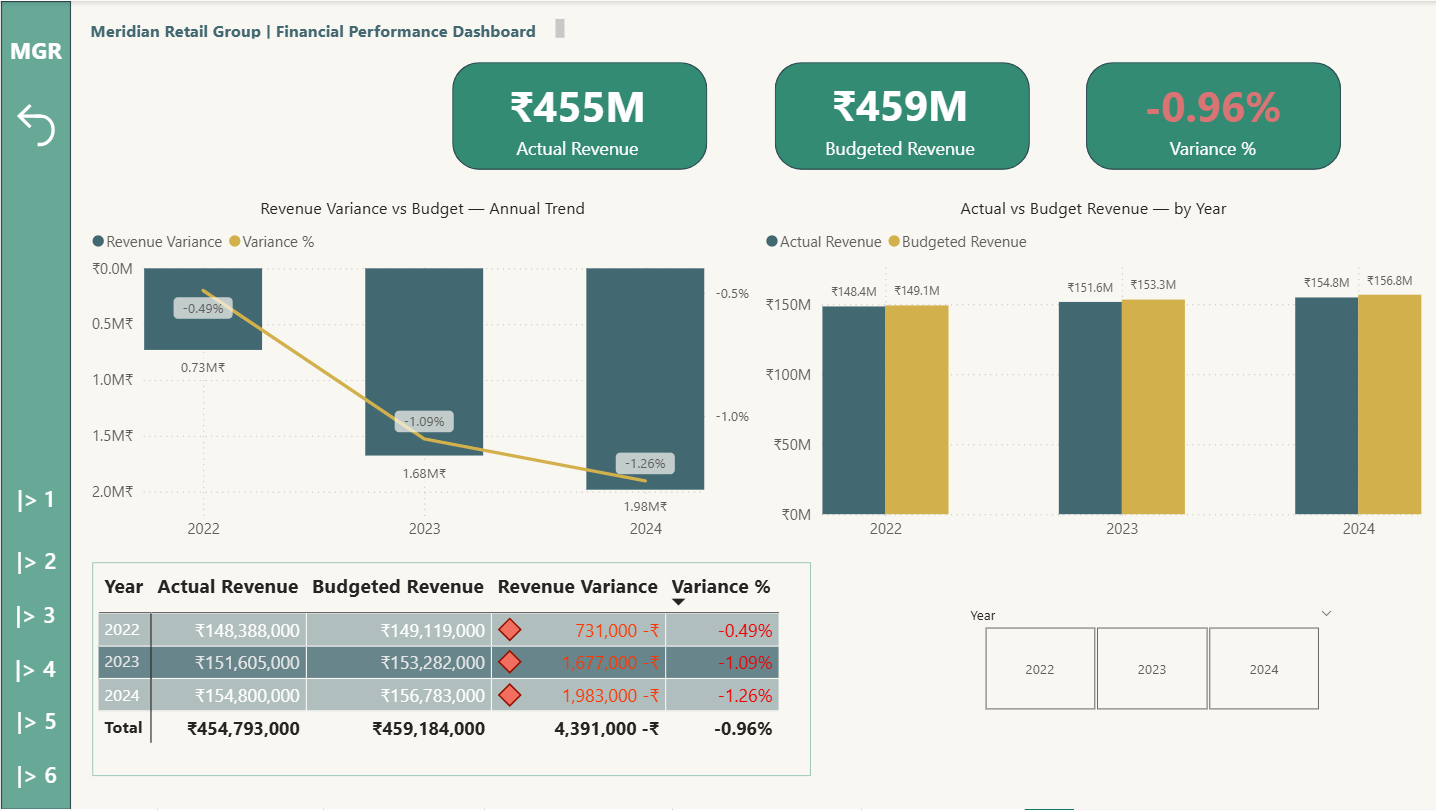

Layout of this report page (visuals, bound fields, positions):
{"tool":"powerbi","page":{"name":"Budget vs Actual","canvas":[1280,720],"ordinal":1},"visuals":[{"type":"shape","title":"Border Shape","box":[0,0,62.4,720.2],"z":0},{"type":"textbox","title":"Title","box":[74.8,10.9,431.9,27.7],"z":0,"group":"g2"},{"type":"shape","box":[402.3,54.4,227.1,95.7],"z":0,"group":"g3"},{"type":"actionButton","box":[0,418.9,61.6,47.7],"z":0,"group":"g1"},{"type":"actionButton","title":"Logo","box":[0,11.6,62.5,60.9],"z":1000,"group":"g2"},{"type":"shape","box":[689.5,54.4,227.1,95.7],"z":1000,"group":"g3"},{"type":"lineClusteredColumnComboChart","title":"Revenue Variance vs Budget — Annual Trend","fields":{"Category":["Executive Summary.Year"],"Y":["Measure_Table.2.Revenue Variance"],"Y2":["Measure_Table.2.Variance %"]},"box":[76.1,174,599.8,315.3],"z":1000},{"type":"actionButton","box":[1.5,474.3,61.6,47.7],"z":1000,"group":"g1"},{"type":"shape","box":[966.3,54.4,227.1,95.7],"z":2000,"group":"g3"},{"type":"clusteredColumnChart","title":"Actual vs Budget Revenue — by Year","fields":{"Y":["Measure_Table.2.Actual Revenue","Measure_Table.2.Budgeted Revenue"],"Category":["Executive Summary.Year"]},"box":[675.9,174,594.3,315.3],"z":2000},{"type":"actionButton","box":[0,522.1,61.6,47.7],"z":2000,"group":"g1"},{"type":"card","title":"Actual","fields":{"Values":["Measure_Table.Actual_Revenue"]},"box":[417.7,56.2,192.2,94.8],"z":3000,"group":"g3"},{"type":"pivotTable","fields":{"Values":["Measure_Table.Actual Revenue","Measure_Table.Budgeted Revenue","Measure_Table.2.Revenue Variance","Measure_Table.Variance %"],"Rows":["Executive Summary.Year"]},"box":[81.5,500.1,639.6,190.3],"z":3000},{"type":"actionButton","box":[0,569.8,61.6,47.7],"z":3000,"group":"g1"},{"type":"card","title":"Budgeted","fields":{"Values":["Measure_Table.Budgeted_Revenue"]},"box":[704.7,56.2,192.2,93.4],"z":4000,"group":"g3"},{"type":"actionButton","title":"Reset - Button","box":[6.6,85.5,74,49.3],"z":4000},{"type":"actionButton","box":[1.5,665.3,61.6,47.7],"z":4000,"group":"g1"},{"type":"card","title":"Variance","fields":{"Values":["Measure_Table.Variance %"]},"box":[983.7,57.1,193,94.1],"z":5000,"group":"g3"},{"type":"group","id":"g1","title":"Page Navigation","box":[0,418.9,63.1,294.1],"z":5000},{"type":"actionButton","box":[1.5,617.6,61.6,47.7],"z":5000,"group":"g1"},{"type":"group","id":"g2","title":"Logo & Title","box":[0,10.9,506.7,61.5],"z":6000},{"type":"group","id":"g3","title":"KPI Cards","box":[402.3,54.4,791.9,97.8],"z":7000},{"type":"slicer","title":"Slicer - Yr","fields":{"Values":["Executive Summary.Year"]},"box":[850.5,533.2,347.5,105],"z":8000}]}

Visuals, with their boxes in screenshot pixels (x1, y1, x2, y2), scaled from the page's 1280x720 canvas onto the 1436x810 screenshot:
"Border Shape" shape: 0:0:70:809
"Title" textbox: 84:12:568:43
shape: 451:61:706:169
actionButton: 0:471:69:525
"Logo" actionButton: 0:13:70:82
shape: 774:61:1028:169
"Revenue Variance vs Budget — Annual Trend" lineClusteredColumnComboChart: 85:196:758:550
actionButton: 2:534:71:587
shape: 1084:61:1339:169
"Actual vs Budget Revenue — by Year" clusteredColumnChart: 758:196:1425:550
actionButton: 0:587:69:641
"Actual" card: 469:63:684:170
pivotTable - Measure_Table.Actual Revenue x Measure_Table.Budgeted Revenue: 91:563:809:777
actionButton: 0:641:69:695
"Budgeted" card: 791:63:1006:168
"Reset - Button" actionButton: 7:96:90:152
actionButton: 2:748:71:802
"Variance" card: 1104:64:1320:170
"Page Navigation" group: 0:471:71:802
actionButton: 2:695:71:748
"Logo & Title" group: 0:12:568:81
"KPI Cards" group: 451:61:1340:171
"Slicer - Yr" slicer: 954:600:1344:718
